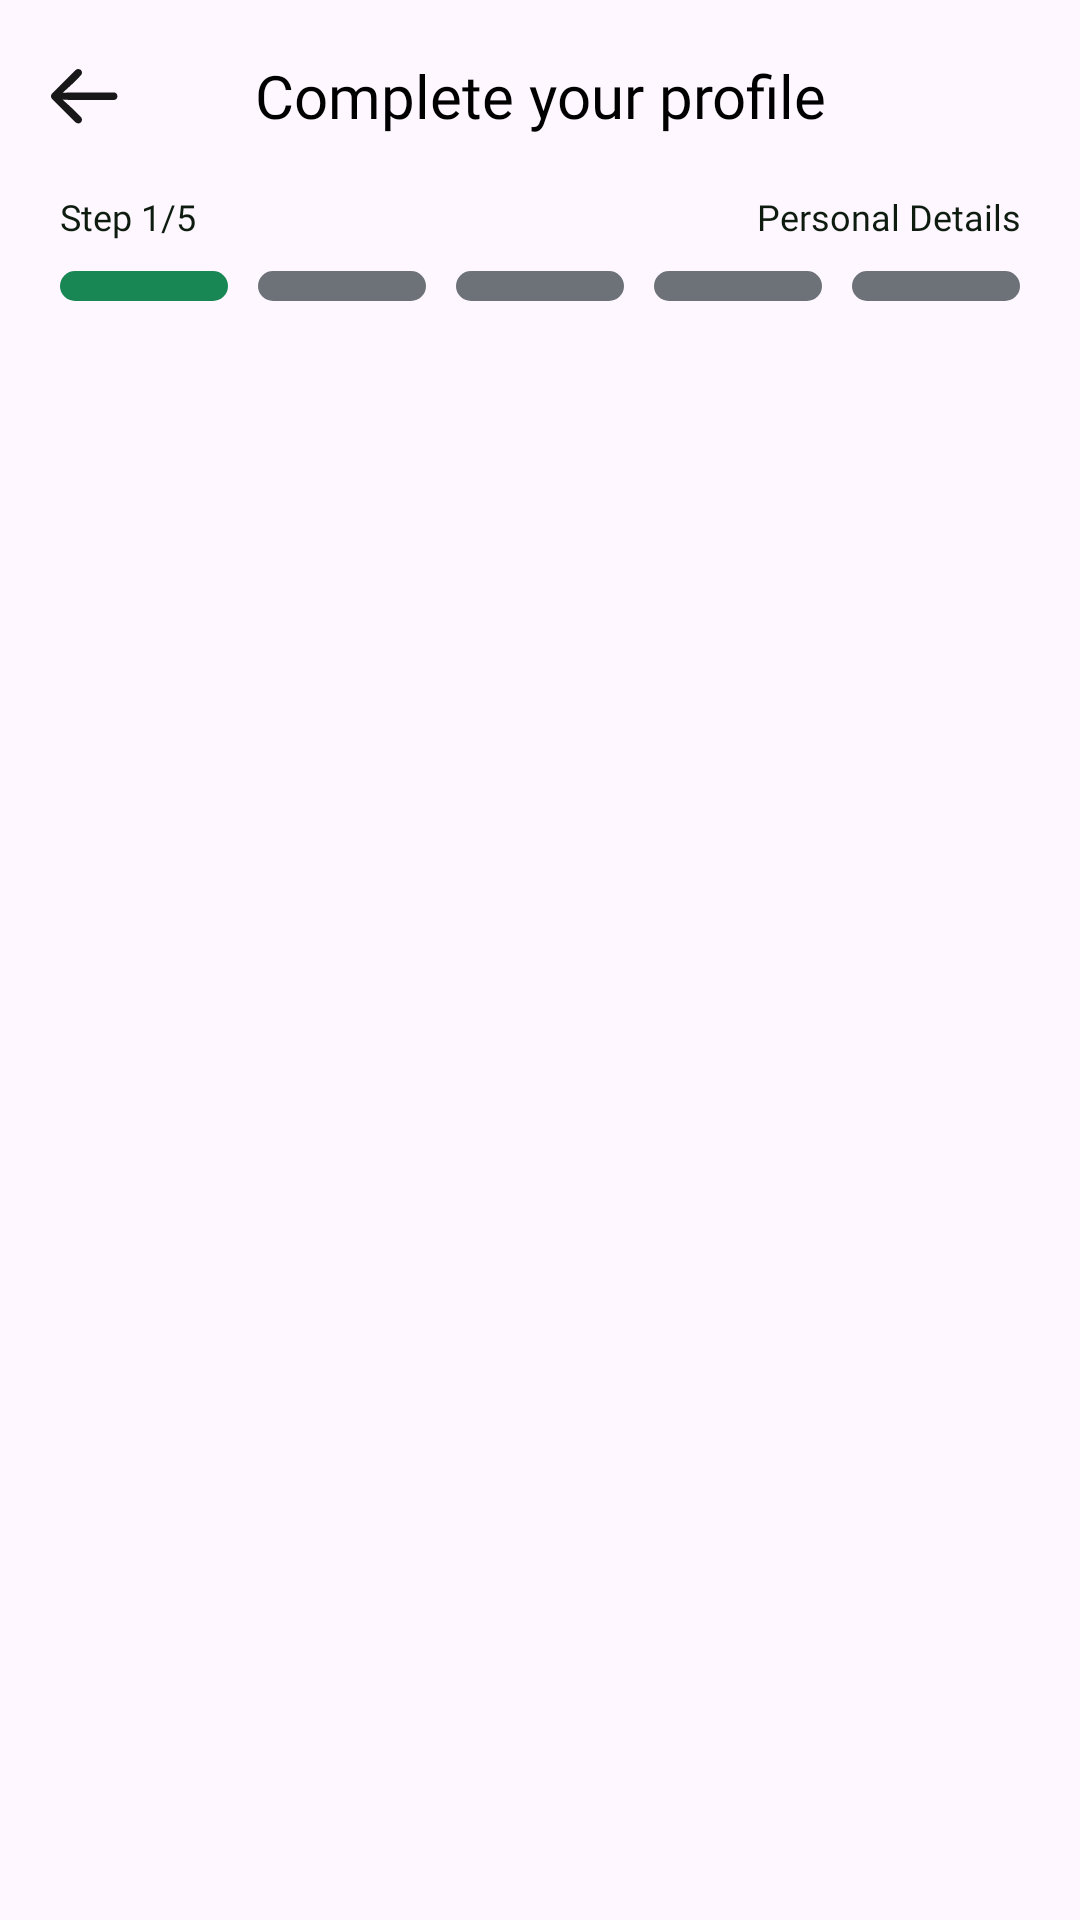

Screen size 1080 x 1920. Icon name, then its box in pixels as {"x1": x1, "y1": y1, "x2": x2, "y2": y2}:
arrow back: {"x1": 51, "y1": 69, "x2": 118, "y2": 124}
